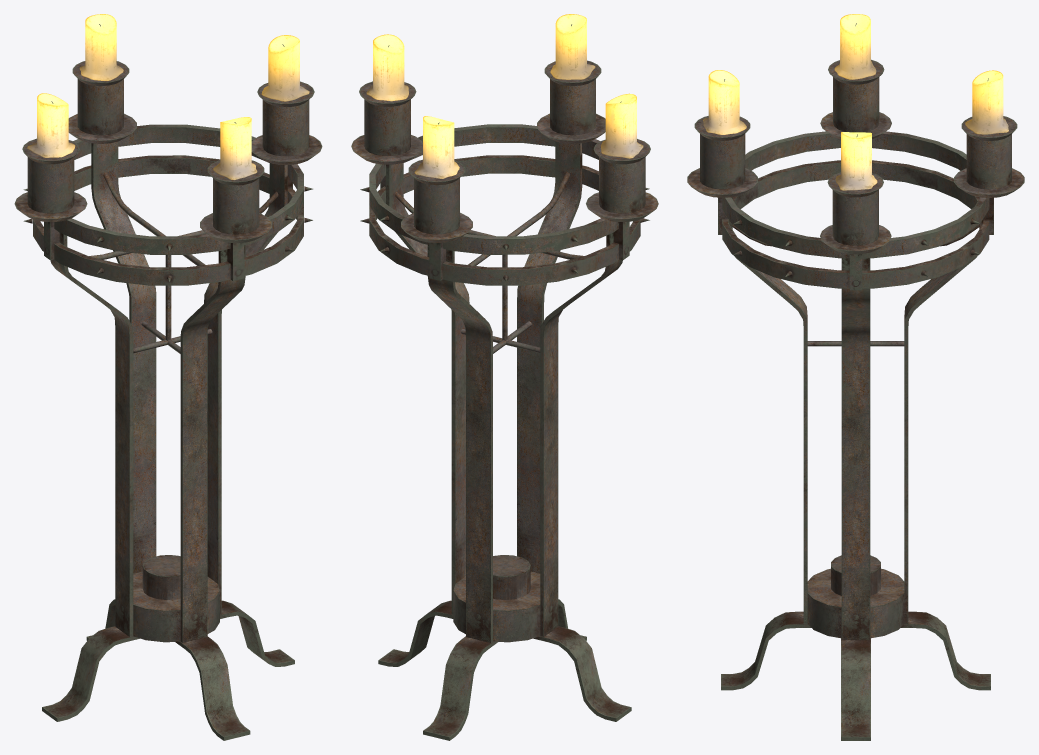
File: obj_candleholder_skyrim_b1eb4c.glb
3 renders of one model, left to right at view 1: azimuth 30°, elevation 25°; view 2: azimuth 150°, elevation 25°; view 3: azimuth 270°, elevation 25°, orthographic.
Parts seen in each view (by area): view 1: obj_candleholder_skyrim_b1eb4c; view 2: obj_candleholder_skyrim_b1eb4c; view 3: obj_candleholder_skyrim_b1eb4c.
Part boxes in pixels (x1,y1,x2,y2): obj_candleholder_skyrim_b1eb4c: (14,14,322,740); obj_candleholder_skyrim_b1eb4c: (351,14,658,740); obj_candleholder_skyrim_b1eb4c: (687,14,1024,740).
Size of the model in its own units: 0.1257 by 0.25 by 0.1257.
1 material, 1 textured.
